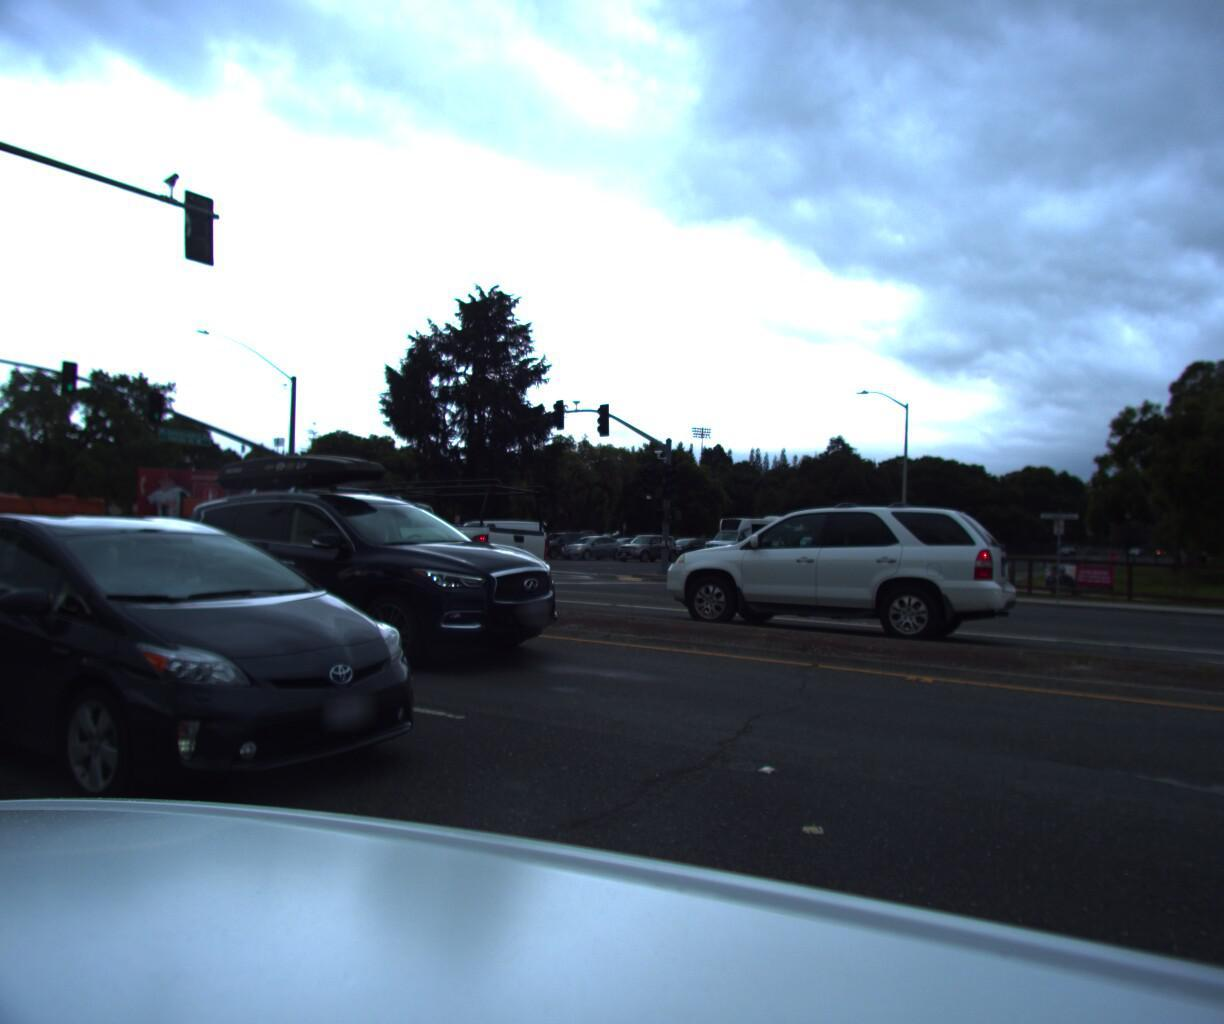car: (0, 498, 476, 863), (149, 432, 598, 689), (641, 493, 1027, 656), (229, 474, 569, 613), (431, 516, 552, 566), (555, 535, 634, 562), (611, 534, 684, 563), (653, 538, 720, 562)
other_vehicle: (695, 510, 807, 564)
truck: (0, 483, 157, 554), (131, 493, 288, 557)
